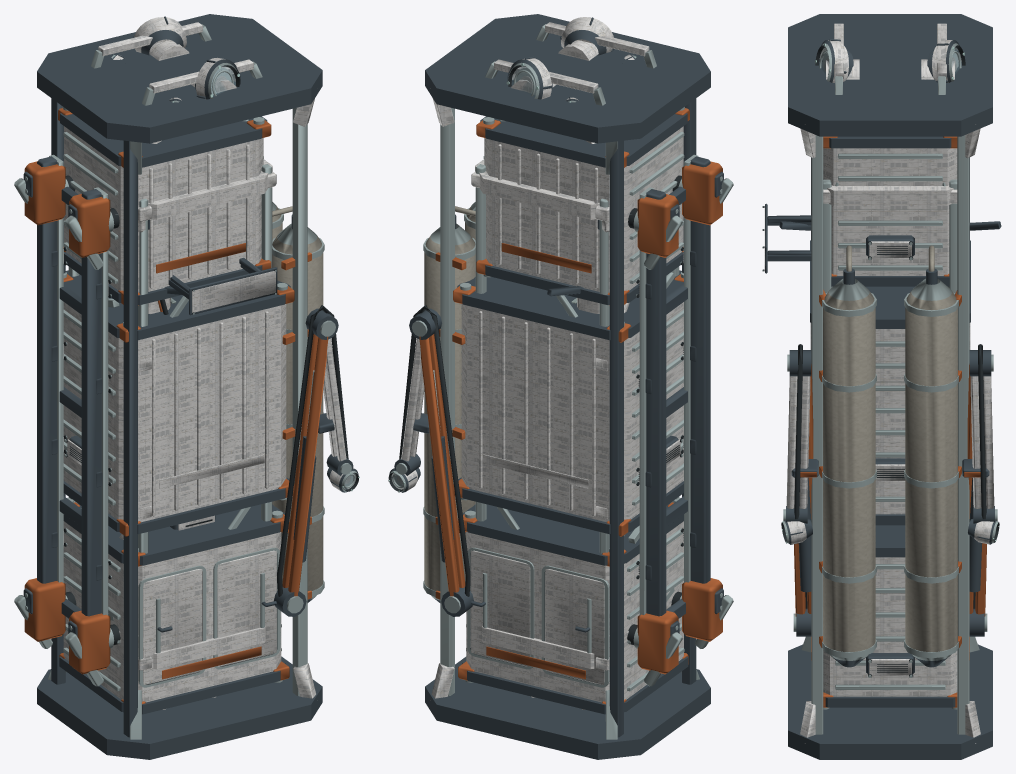
Rendered from CounterFleet.fbx.
The picture shows the model from 3 angles, left to right: view 1: azimuth 30°, elevation 25°; view 2: azimuth 150°, elevation 25°; view 3: azimuth 270°, elevation 25°; orthographic projection.
Visible parts, largest first — view 1: counter_freight_carrier, counter_common_bogie, counter_inspection_tender; view 2: counter_freight_carrier, counter_common_bogie, counter_inspection_tender; view 3: counter_freight_carrier, counter_inspection_tender.
Boxes of the visible parts, x1,y1,x2,y2 form: counter_freight_carrier: (37,14,324,759); counter_common_bogie: (14,154,120,686); counter_inspection_tender: (68,16,359,709); counter_freight_carrier: (423,14,710,759); counter_common_bogie: (627,154,733,686); counter_inspection_tender: (388,17,679,709); counter_freight_carrier: (762,14,992,759); counter_inspection_tender: (767,39,1001,636).
Size of the model in its own units: 3.34 by 8.06 by 2.55.
12 materials, 6 textured.
